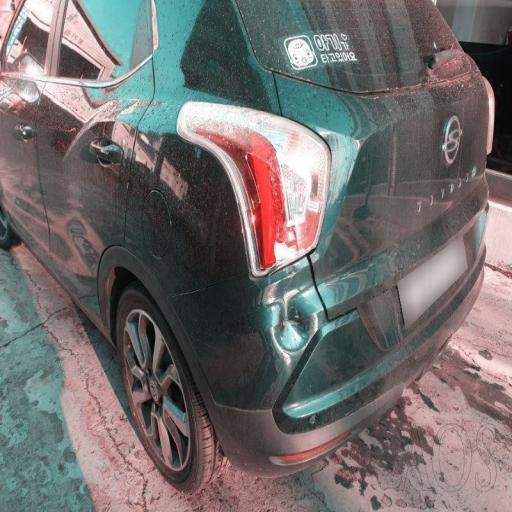dent: (198, 98, 388, 428), (330, 91, 504, 274)
